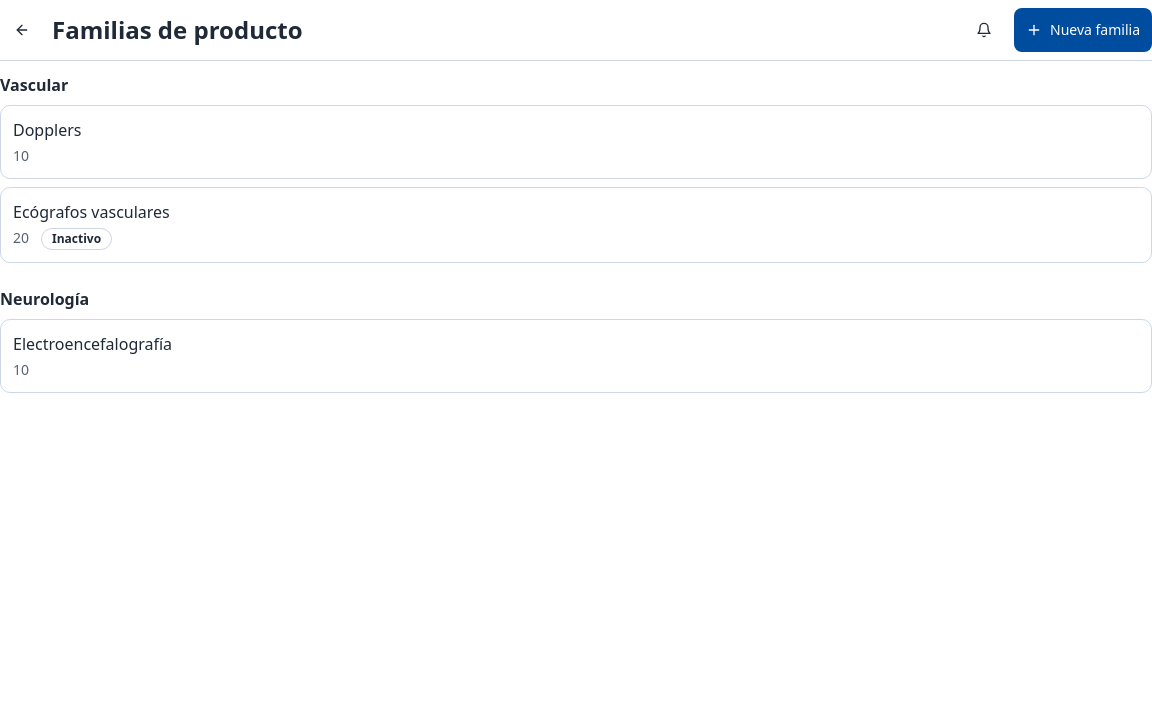
Test: ProductFamilyListPage › locks the division when editing
Step 1. Click the button "Dopplers 10" → (47,130), box [0,105,1151,179]
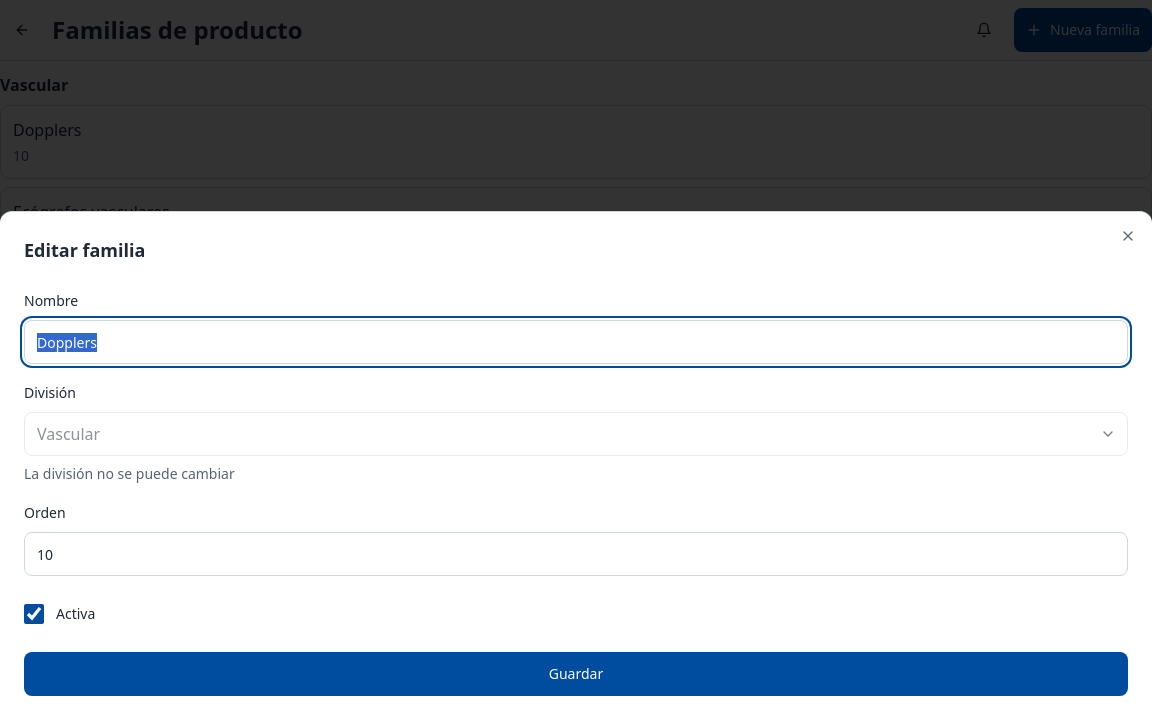
Expected: the field labelled "Nombre" holds "Dopplers", [24,320,1128,364]
Expected: the dropdown labelled "División" is disabled, [24,412,1128,456]
Expected: the field labelled "Orden" holds "10", [24,532,1128,576]
